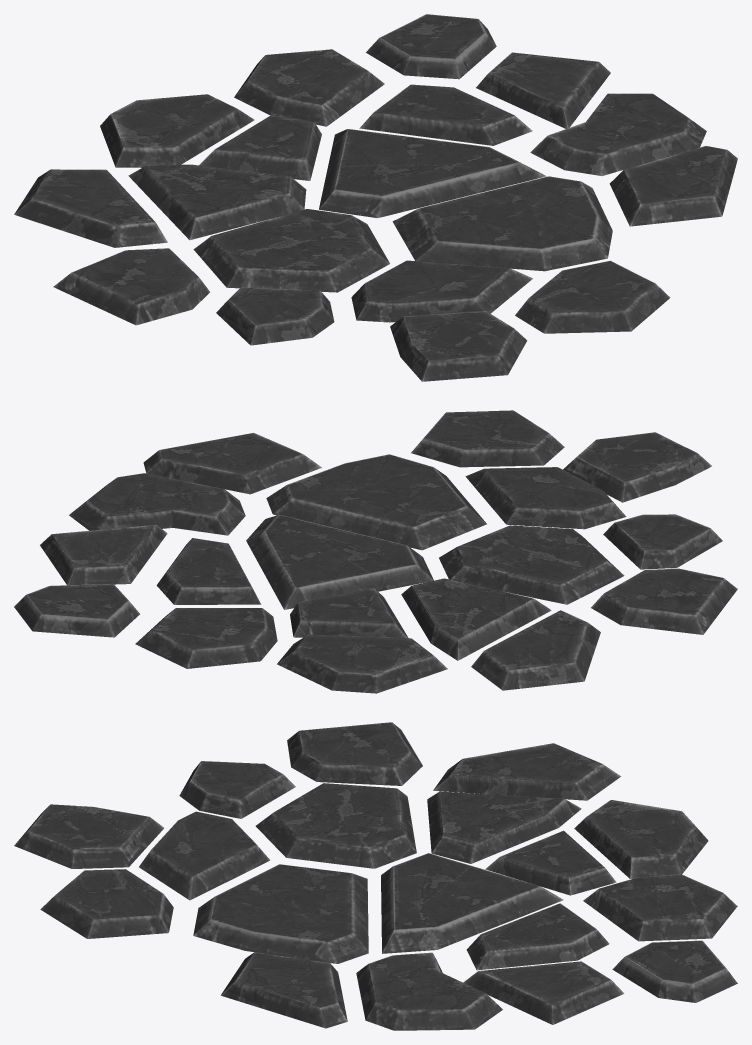
File: cells.FBX
3 renders of one model, top to bottom at view 1: azimuth 30°, elevation 25°; view 2: azimuth 150°, elevation 25°; view 3: azimuth 270°, elevation 25°, orthographic. The views are drawn at different scales.
Parts seen in each view (by area): view 1: Object15; view 2: Object15; view 3: Object15.
Boxes of the visible parts, x1=… form: Object15: x1=14, y1=14, x2=737, y2=381; Object15: x1=14, y1=410, x2=737, y2=693; Object15: x1=14, y1=722, x2=737, y2=1030.
Size of the model in its own units: 1149 by 24.58 by 1168.
